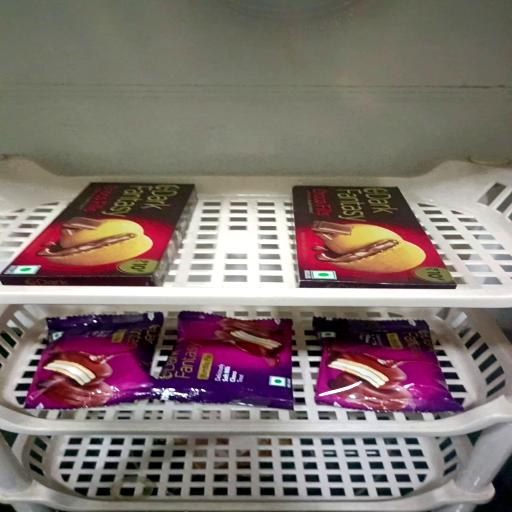Choco Fills: (1, 184, 194, 288), (292, 187, 457, 290)
Choco Pie: (314, 318, 460, 412), (158, 311, 294, 409), (24, 313, 162, 409)
